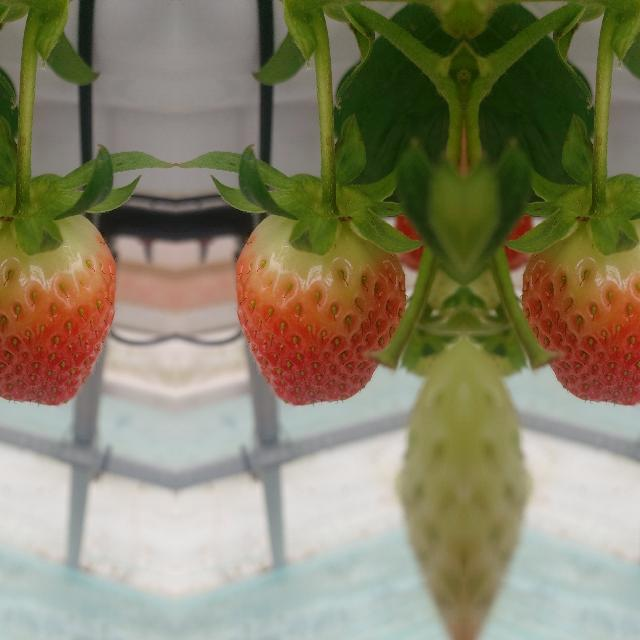Health_100: (235, 215, 405, 405), (521, 215, 640, 405), (0, 215, 115, 405)
